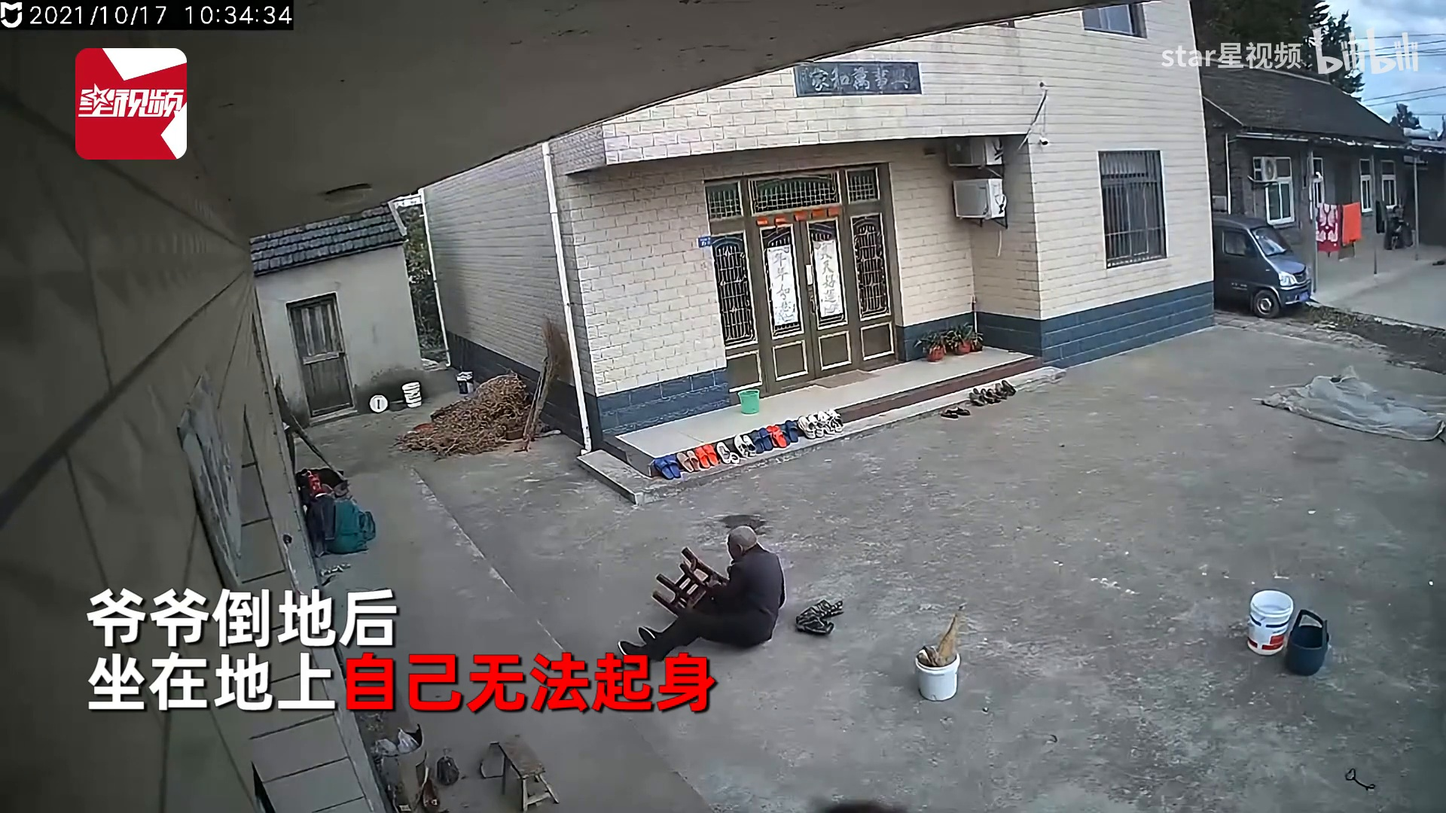half_up: (633, 524, 785, 660)
